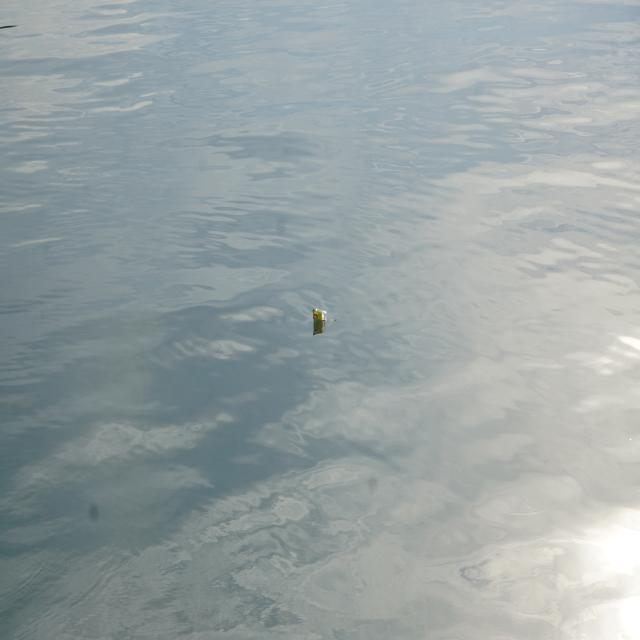Bungkus Makanan: (311, 307, 337, 324)
